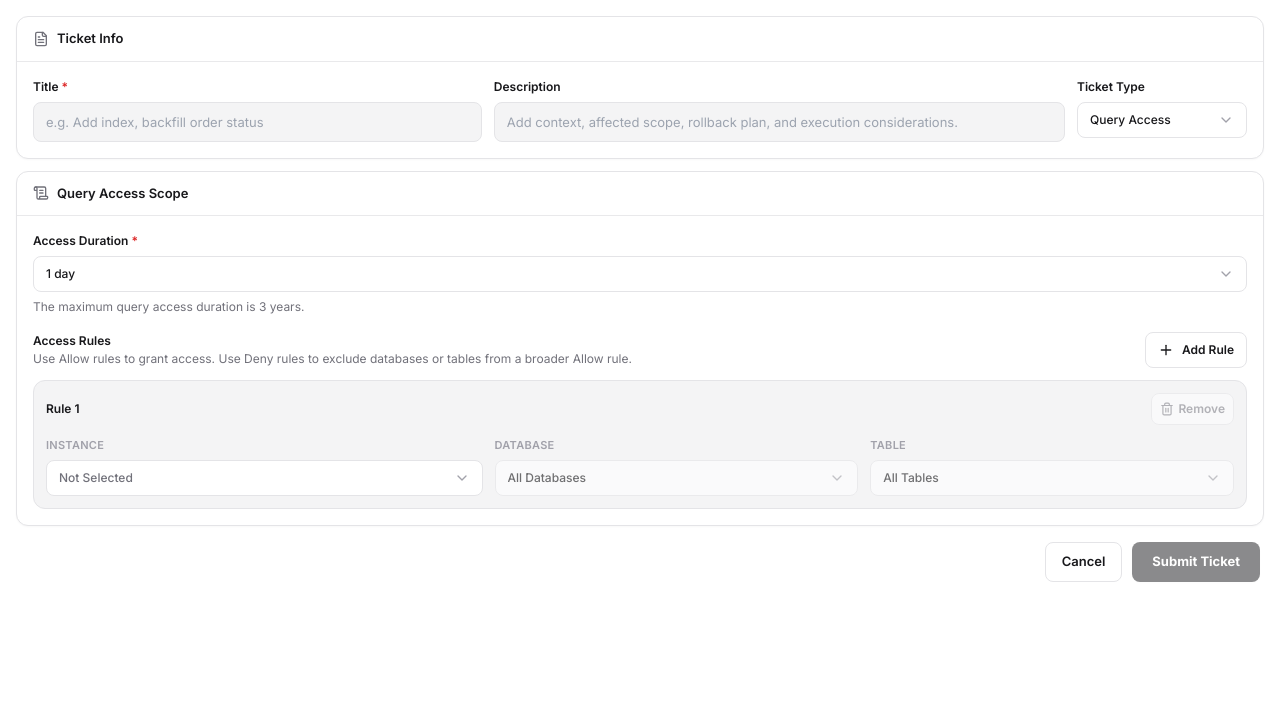
Test: NewTicketPage › shows Redis instances for query access tickets
Expected: the text "Query Access Scope" is shown, [57,184,188,203]
Click the button with aria-label "Query Access Rule 1 Instance" at [96, 477], box [46,460,482,496]
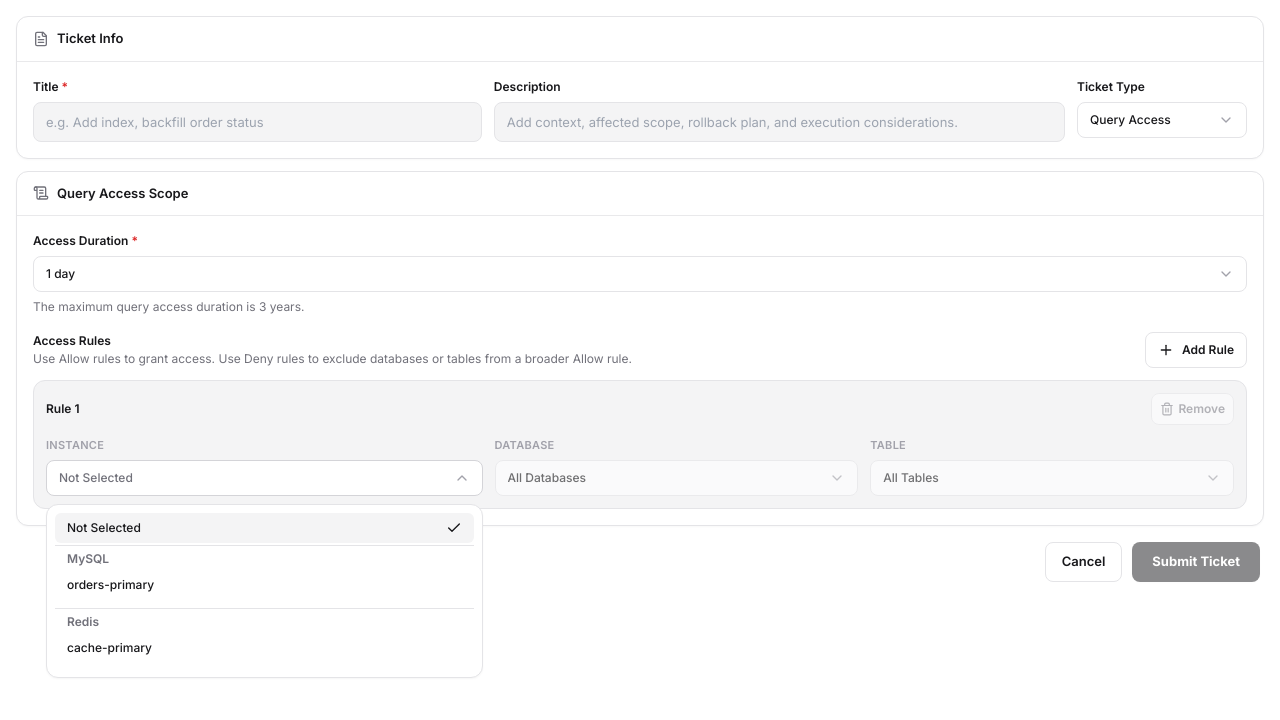
Result: the text "MySQL" is shown at [67,550,109,566]
Result: the text "Redis" is shown at [67,614,99,628]
Result: the option "cache-primary" is shown at [55,632,474,662]
